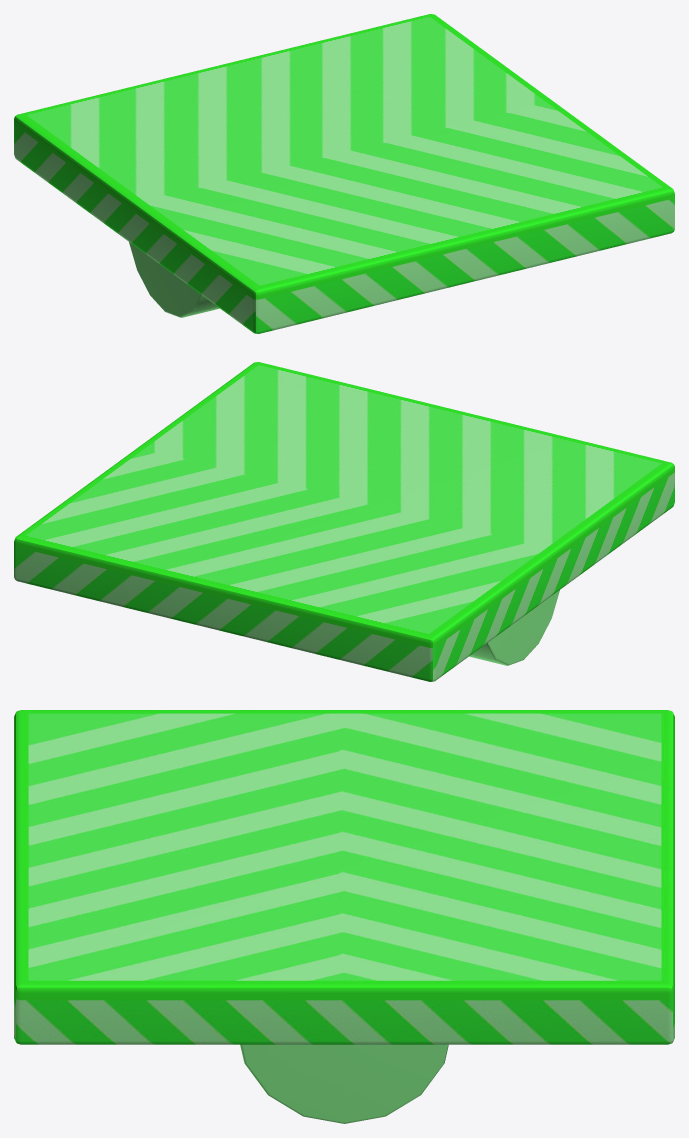
File: scaffold_00.fbx
3 renders of one model, top to bottom at view 1: azimuth 30°, elevation 25°; view 2: azimuth 150°, elevation 25°; view 3: azimuth 270°, elevation 25°, orthographic. The views are drawn at different scales.
Visible parts, largest first — view 1: scaffold; view 2: scaffold; view 3: scaffold.
Boxes of the visible parts, <box> form: scaffold: <box>14,14,674,333</box>; scaffold: <box>14,362,674,681</box>; scaffold: <box>14,710,674,1123</box>.
Bounding box in the file's own units: 1025 × 1025 × 272.
